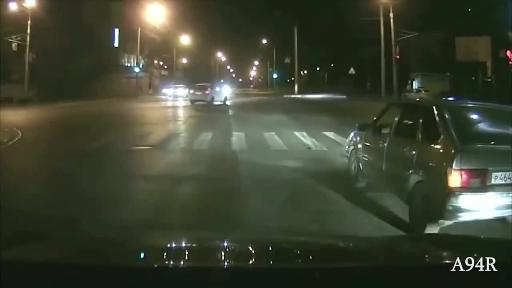CAR: (341, 90, 512, 229), (157, 56, 242, 120)
